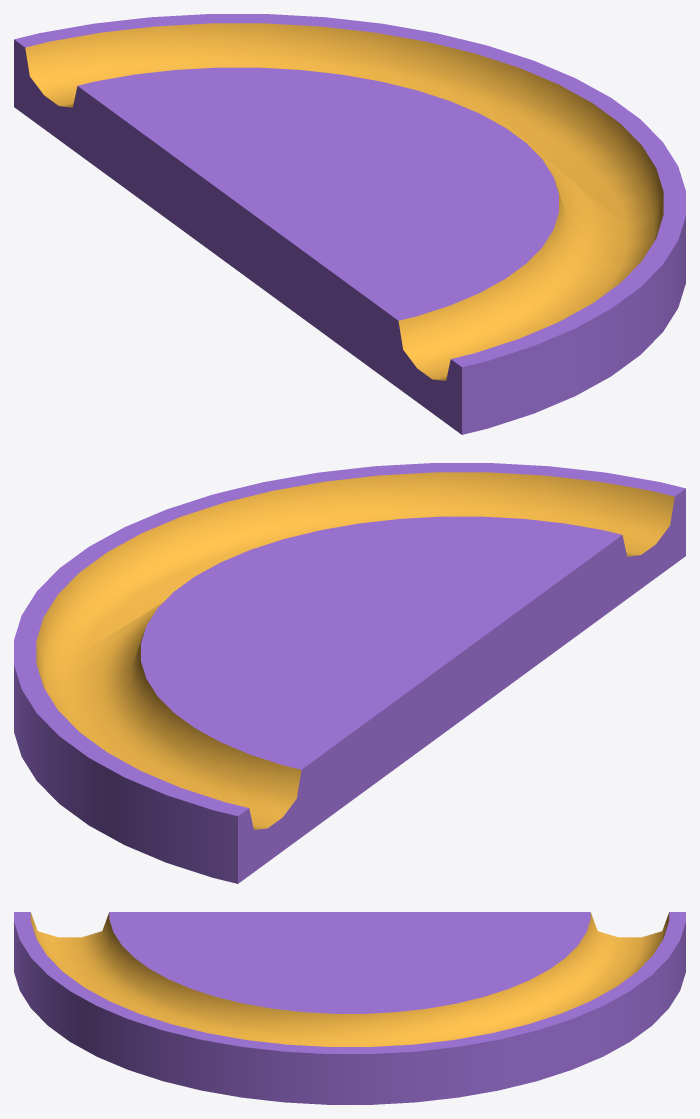
The model's file is bend-solid-large.glb.
The picture shows the model from 3 angles, top to bottom: view 1: azimuth 30°, elevation 25°; view 2: azimuth 150°, elevation 25°; view 3: azimuth 270°, elevation 25°; orthographic projection. The views are drawn at different scales.
Parts seen in each view (by area): view 1: bend-solid-large; view 2: bend-solid-large; view 3: bend-solid-large.
Boxes of the visible parts, box(x1,y1,x2,y2) form: bend-solid-large: box(14, 14, 685, 434); bend-solid-large: box(14, 463, 685, 883); bend-solid-large: box(14, 912, 685, 1104).
Size of the model in its own units: 3 by 0.5003 by 6.
Materials: 1 (1 with a texture image).
